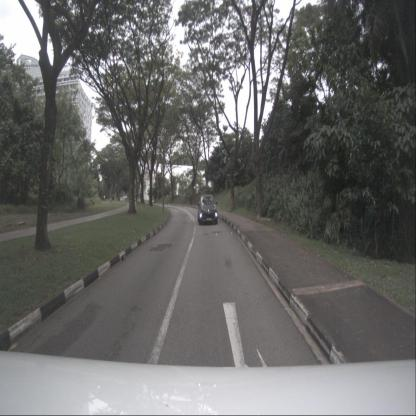vehicle-car: (197, 194, 218, 225)
